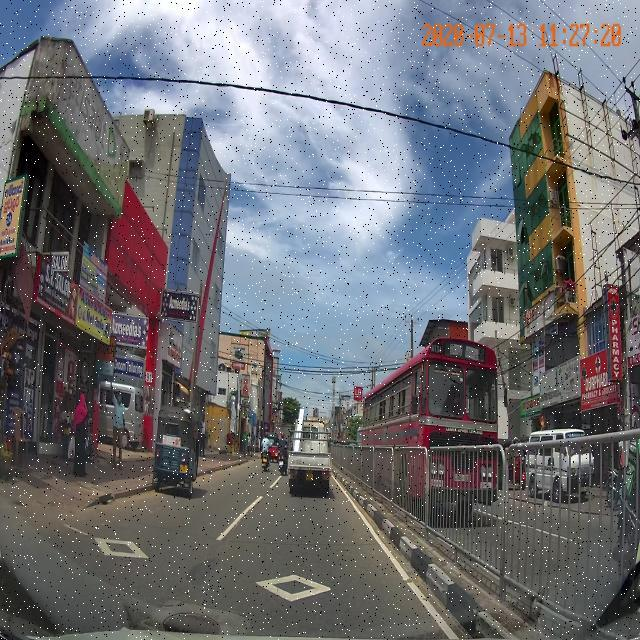diamond: (178, 564, 441, 619)
